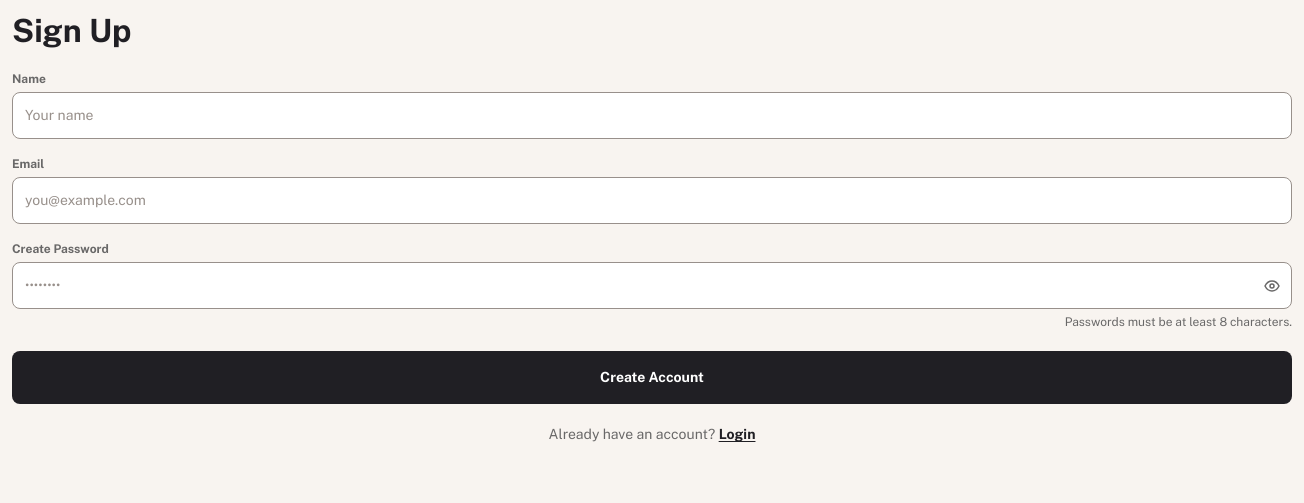
it: SignUpForm › validation › shows error for malformed email
The width and height of the screenshot is (1304, 503).
In the field labelled "Email": (652, 201) [12,177,1292,224], type "notanemail"
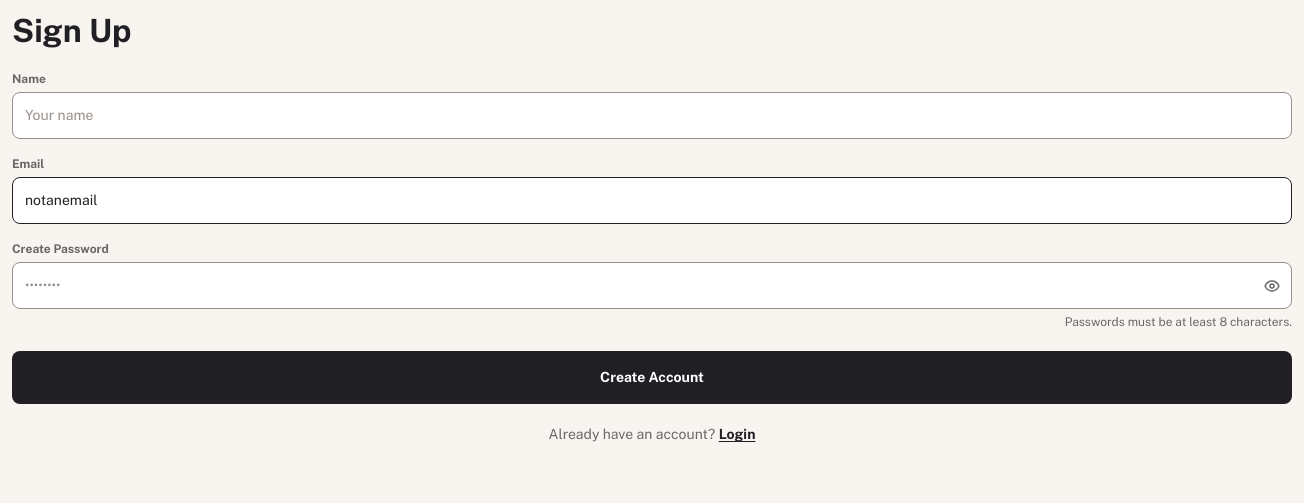
Click the button "Create Account": (652, 378) [12,351,1292,404]
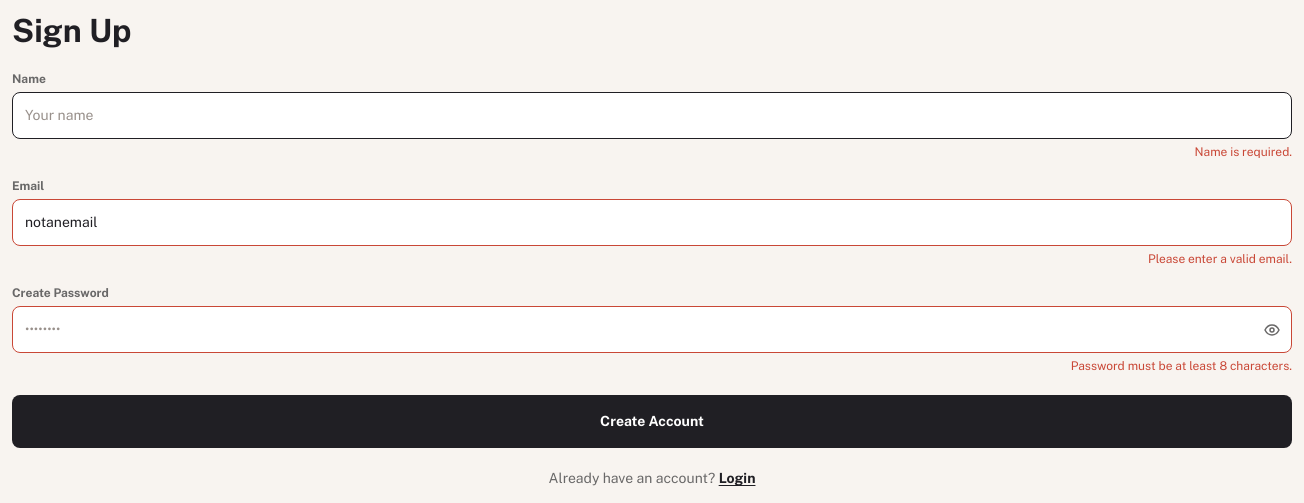
expect the text "Please enter a valid email." is shown: met, box [1148,252,1292,266]
